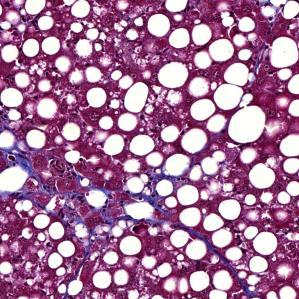fibrosis: (34, 183, 83, 215)
